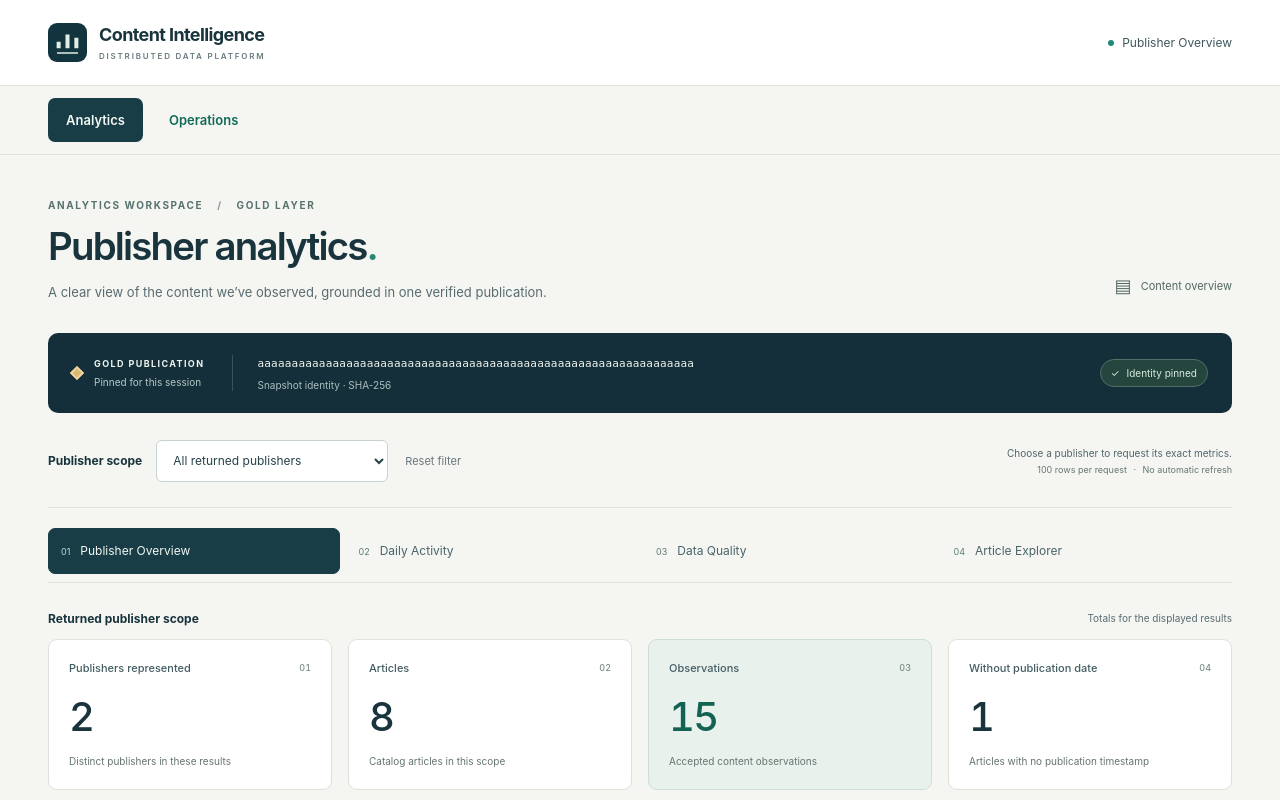
Test case: complete analytics application › rejects invalid or reversed dates in Data Quality without requesting new data
Click the button "03Data Quality". click: (712, 551)
box: [643, 528, 934, 574]
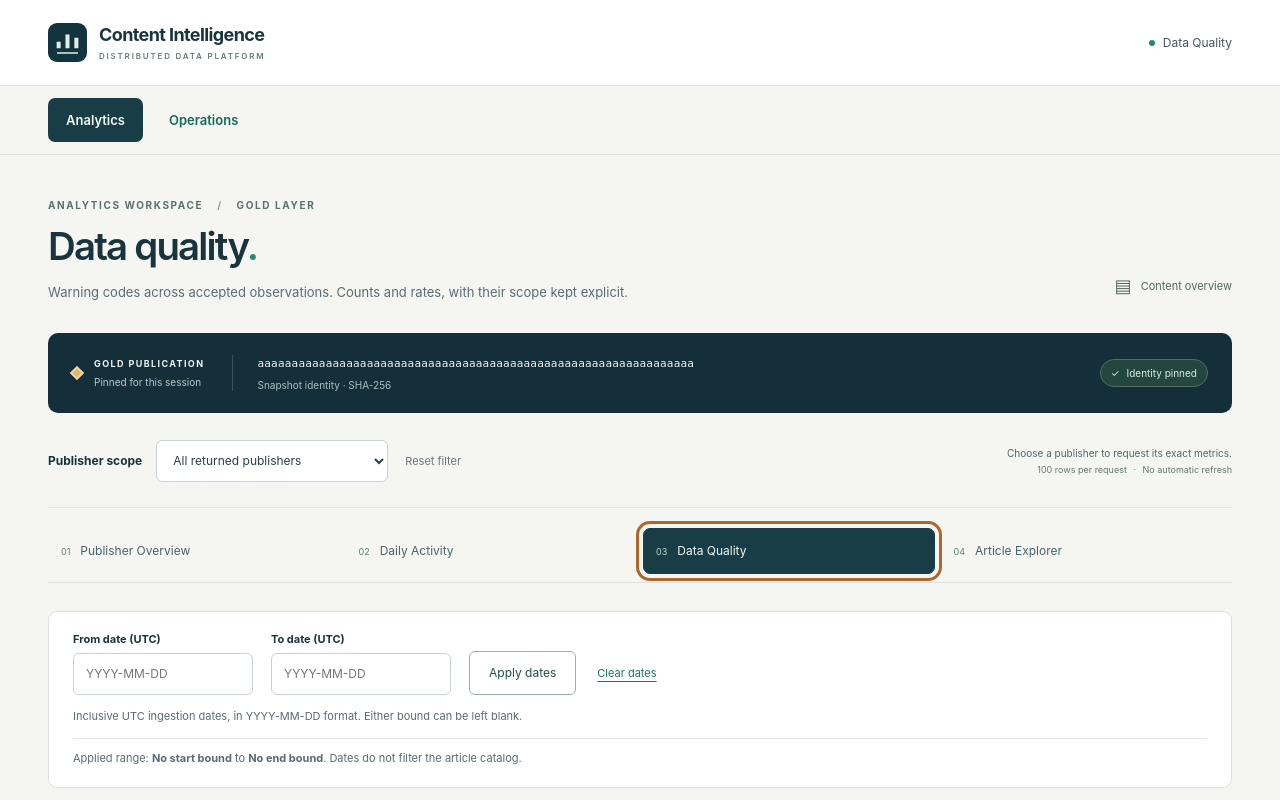
Type "2026-02-30" into the field labelled "From date (UTC)". click: (163, 674)
box: [73, 653, 253, 695]
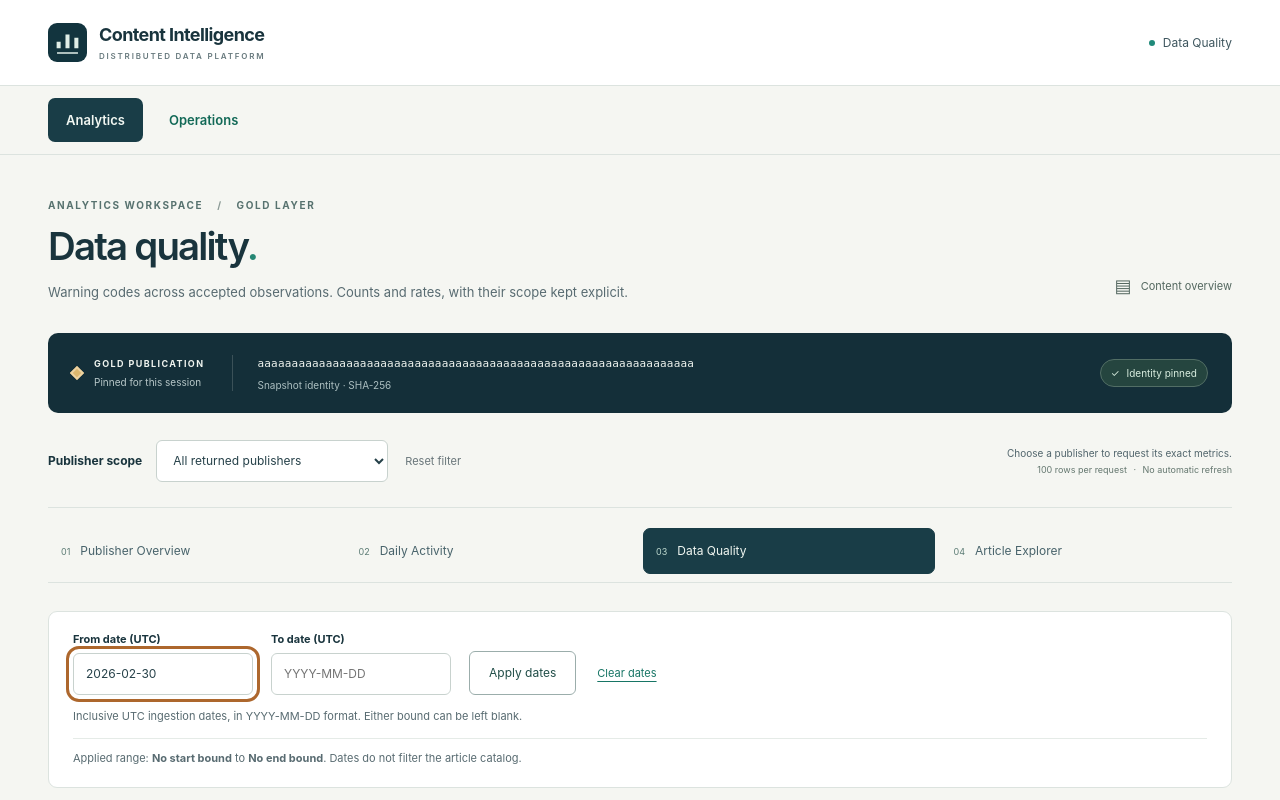
Click the button "Apply dates". click: (523, 673)
box: [469, 651, 576, 695]
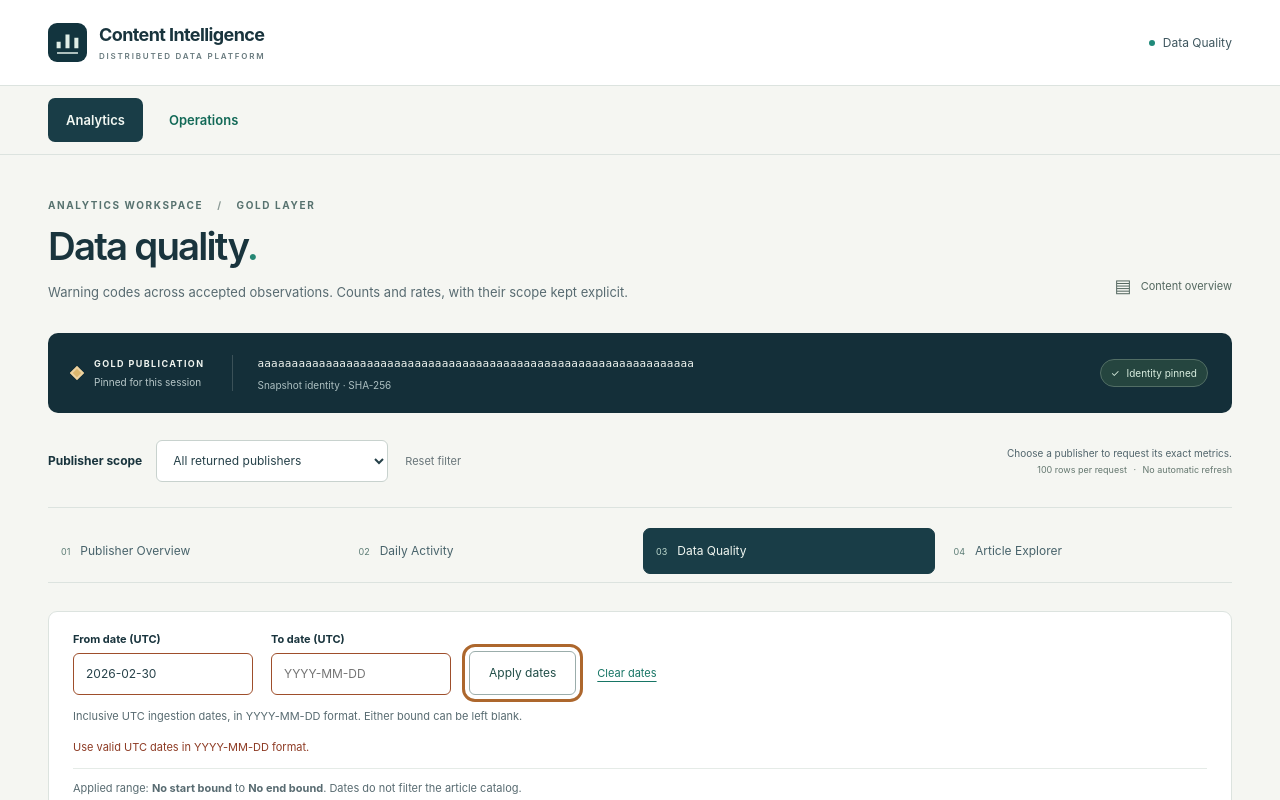
Check: the message shows "Use valid UTC dates", box [73, 740, 309, 754]
Replace the text in the field labelled "From date (UTC)" with "2026-10-14". click: (163, 674)
box: [73, 653, 253, 695]
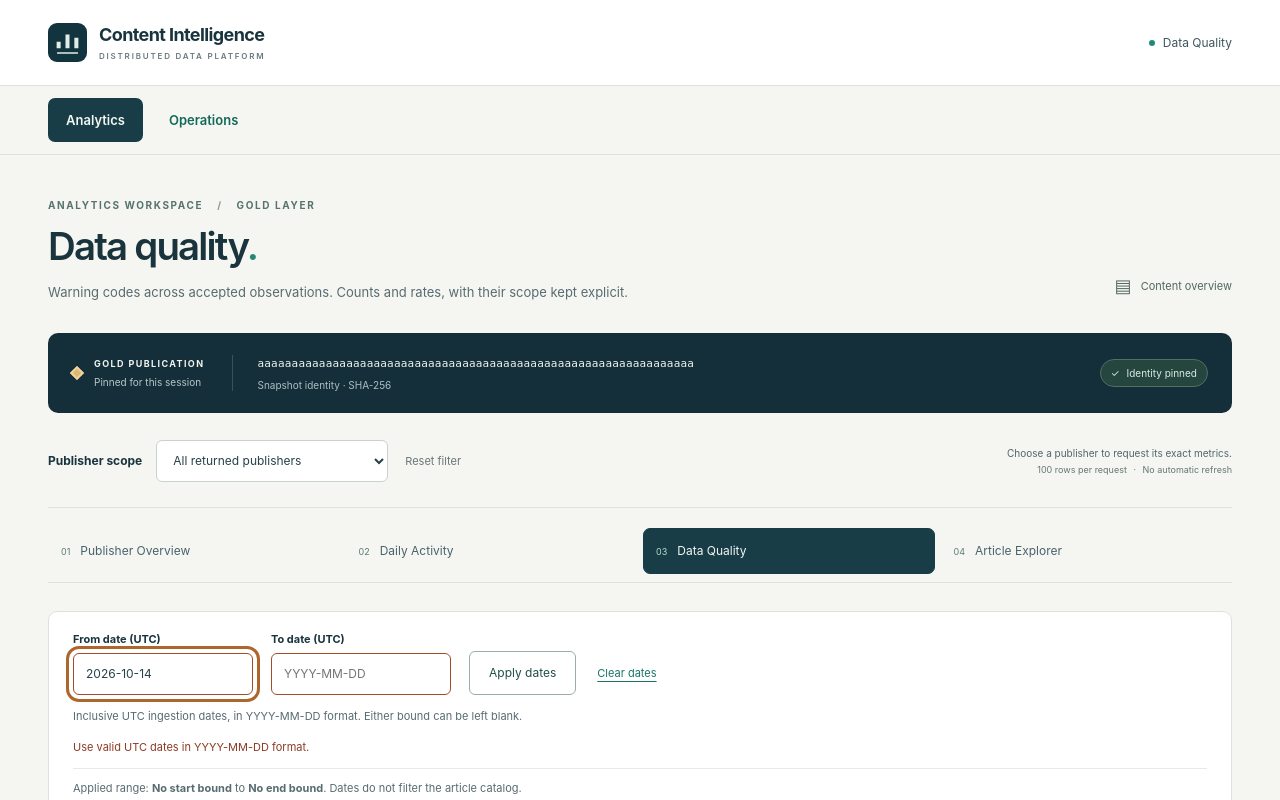
Type "2026-10-12" into the field labelled "To date (UTC)". click: (361, 674)
box: [271, 653, 451, 695]
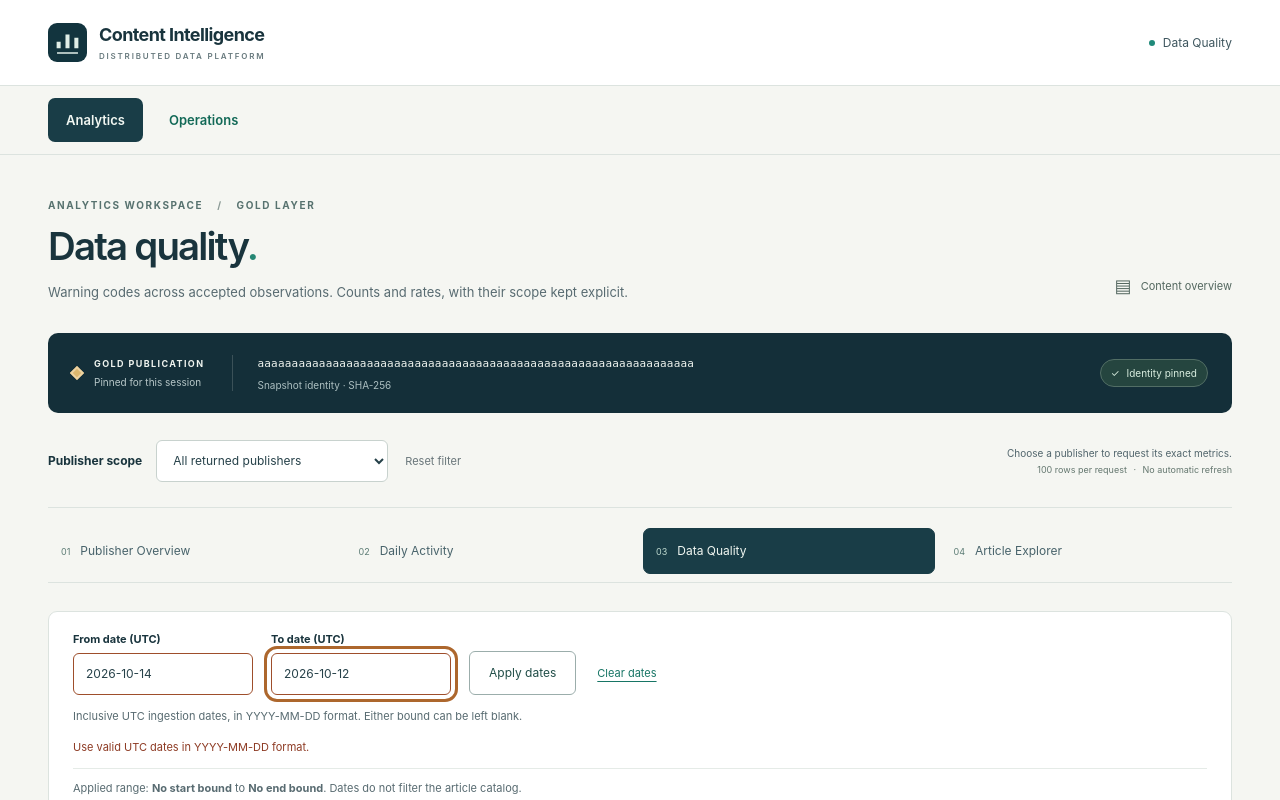
Click the button "Apply dates". click: (523, 673)
box: [469, 651, 576, 695]
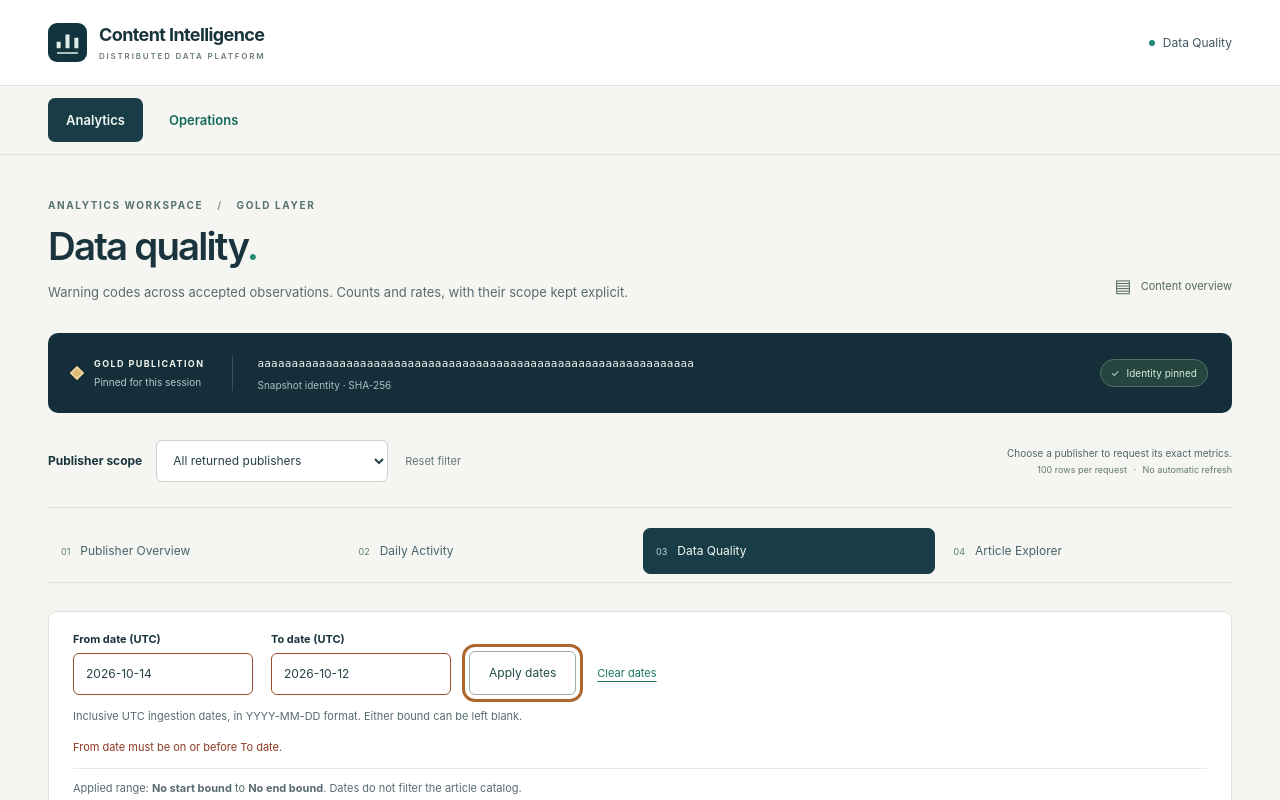
Check: the text "No start bound" is shown, box [152, 781, 232, 795]
Check: the message shows "on or before", box [73, 740, 282, 754]
